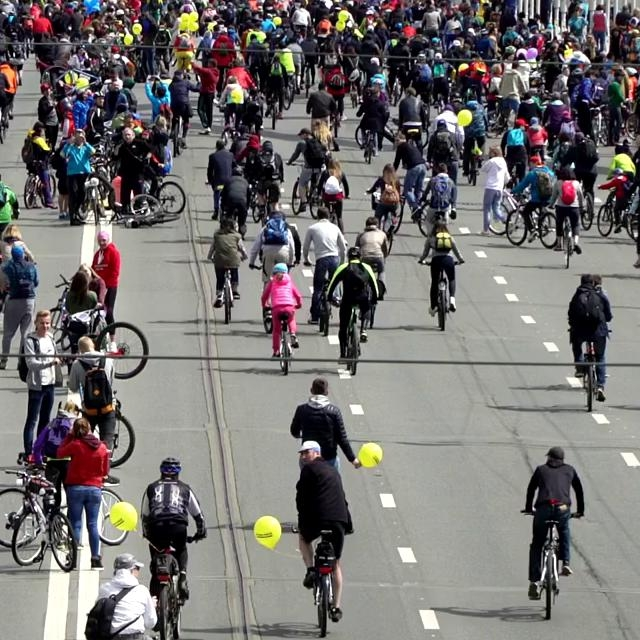bicycle: (519, 506, 584, 620), (10, 460, 76, 572), (142, 532, 205, 639), (291, 524, 342, 638), (418, 258, 464, 331), (328, 296, 370, 375), (574, 329, 612, 412), (133, 156, 185, 214), (262, 305, 301, 375), (505, 194, 556, 247), (208, 256, 246, 324), (22, 157, 57, 208), (588, 103, 610, 146), (355, 123, 377, 164), (168, 115, 186, 157)
